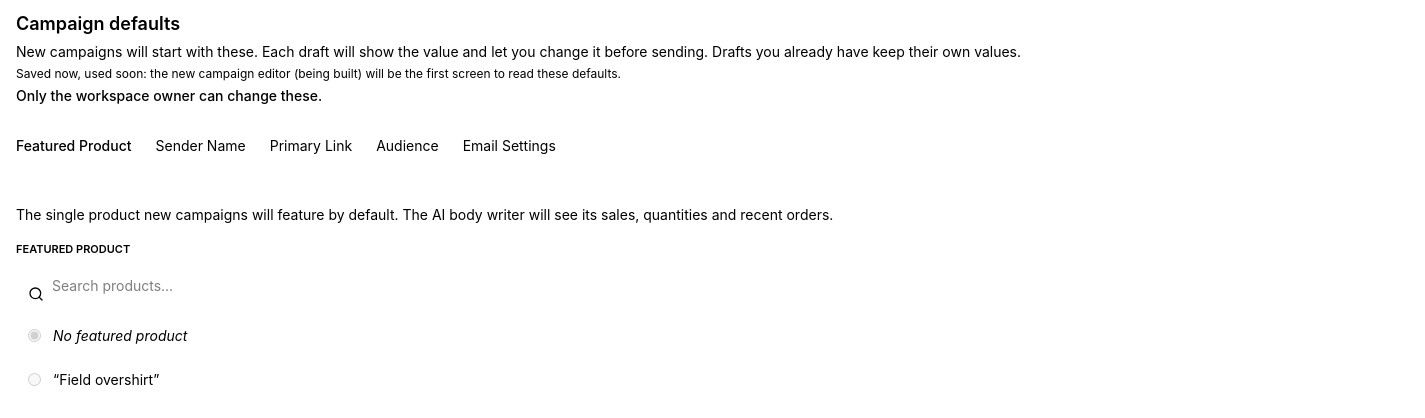
Scenario: DefaultsForm › is read-only for everyone but the owner, but tabs still switch
Expected: the text "Only the workspace owner can change these." is shown, [16,87,322,104]
Expected: the element named "Campaign defaults" is disabled, [16,185,1408,402]
Click the tab "Sender Name" at x=201, y=146, box [156,126,246,166]
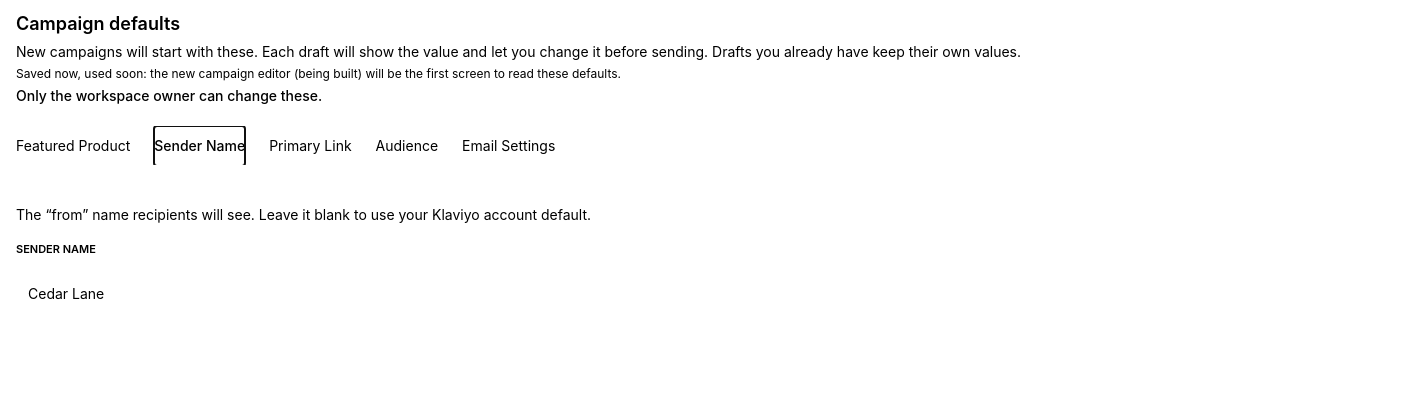
Now the field labelled "Sender name" is disabled, box [16,274,1408,314]
